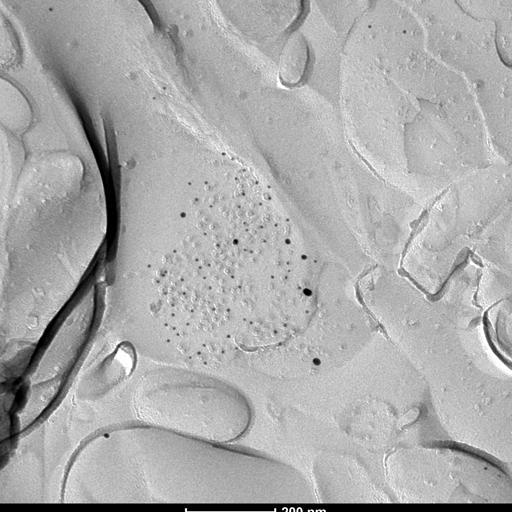1: (232, 237, 240, 245), (283, 238, 291, 246), (179, 210, 187, 218), (299, 253, 307, 261)
6 nm Particle: (202, 360, 208, 366), (196, 350, 202, 356), (201, 342, 207, 348), (226, 333, 232, 339), (273, 329, 279, 335), (171, 325, 177, 331), (283, 322, 289, 328), (185, 321, 191, 327), (163, 322, 169, 328), (248, 320, 254, 326), (171, 312, 177, 318), (225, 307, 231, 313), (211, 306, 217, 312), (169, 302, 175, 308), (181, 291, 187, 297), (155, 278, 161, 284), (179, 277, 185, 283), (202, 275, 208, 281), (269, 274, 275, 280), (230, 274, 236, 280), (160, 272, 166, 278), (163, 269, 169, 275), (197, 265, 203, 271), (206, 262, 212, 268), (194, 257, 200, 263), (172, 248, 178, 254), (215, 242, 221, 248), (262, 238, 268, 244), (202, 231, 208, 237), (259, 224, 265, 230), (273, 223, 279, 229), (285, 217, 291, 223), (236, 204, 242, 210), (258, 201, 264, 207), (194, 197, 200, 203), (267, 195, 273, 201), (241, 191, 247, 197), (203, 180, 209, 186), (233, 176, 239, 182), (207, 203, 213, 209), (248, 249, 254, 255), (241, 247, 247, 253), (243, 227, 249, 233), (253, 180, 259, 186), (266, 184, 272, 190), (240, 168, 246, 174), (221, 151, 227, 157), (282, 275, 288, 281), (286, 268, 292, 274), (284, 260, 290, 266), (297, 286, 303, 292), (303, 309, 309, 315), (241, 316, 247, 322), (186, 180, 192, 186), (146, 263, 152, 269), (187, 354, 193, 360), (219, 349, 225, 355), (189, 308, 195, 314), (175, 331, 181, 337), (165, 337, 171, 343), (162, 290, 168, 296), (207, 285, 213, 291), (236, 284, 242, 290), (241, 220, 247, 226), (277, 341, 283, 347), (233, 345, 239, 351)
